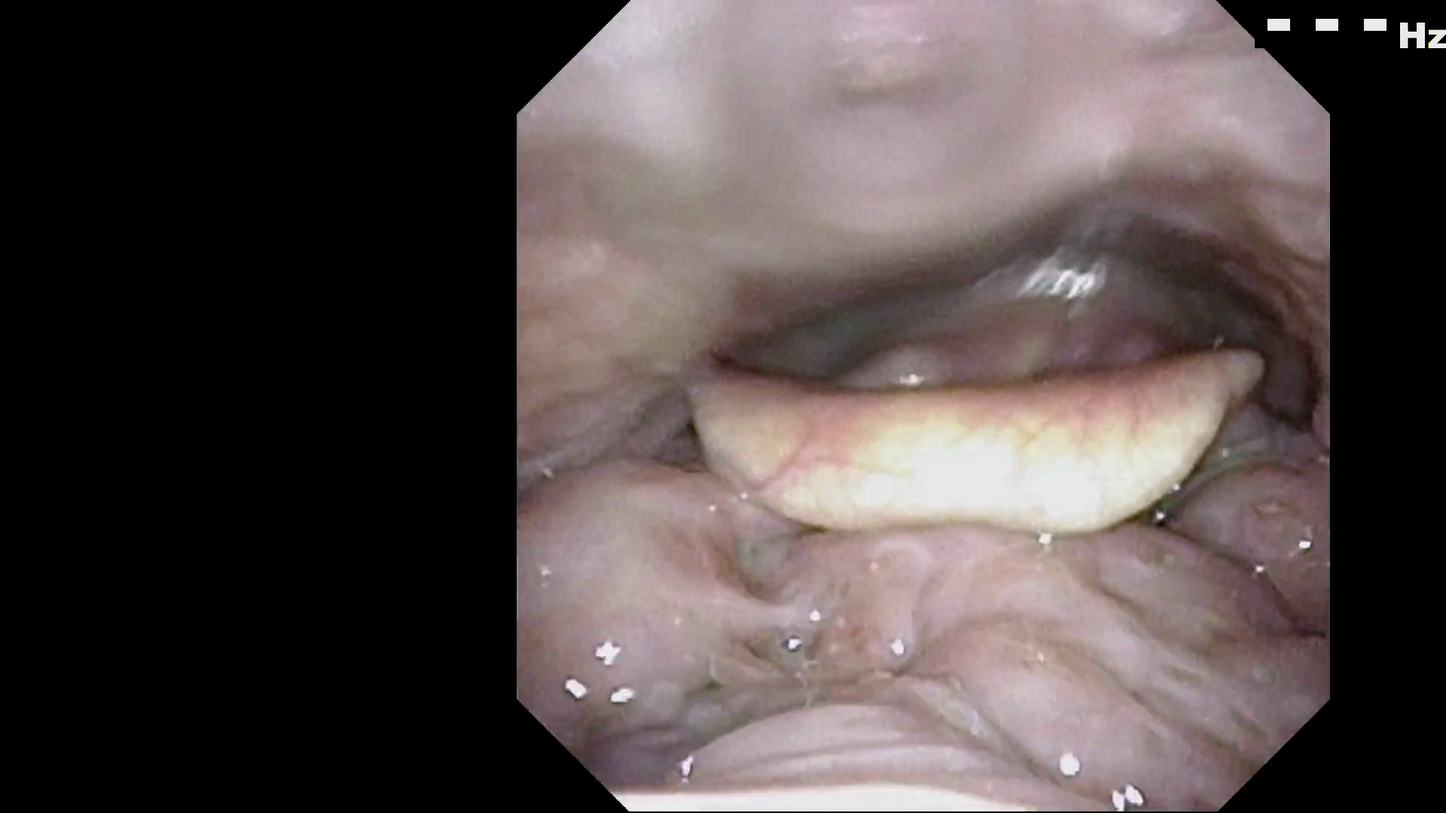epiglottis: (679, 339, 1272, 539)
